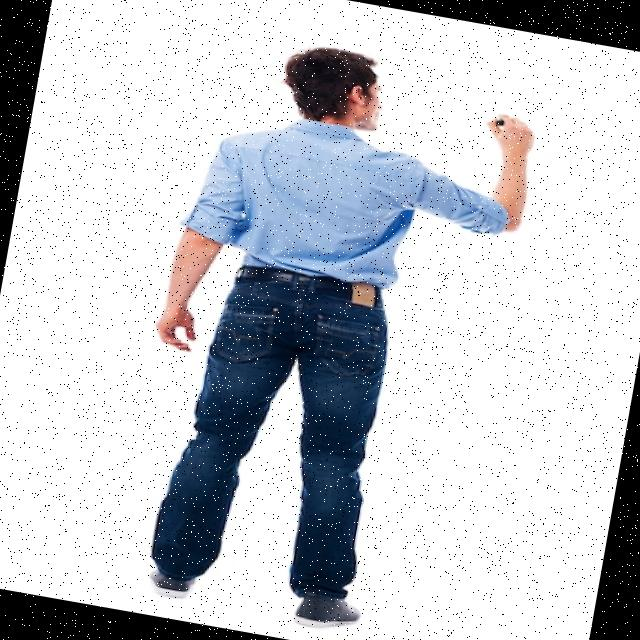Person: (110, 25, 545, 640)
